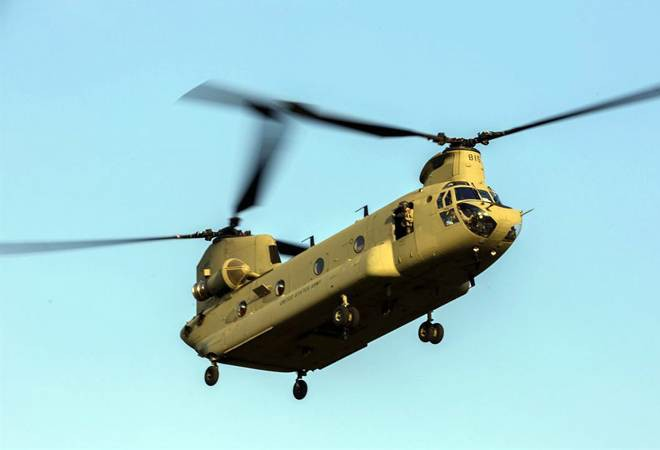chinook: (128, 131, 541, 398)
